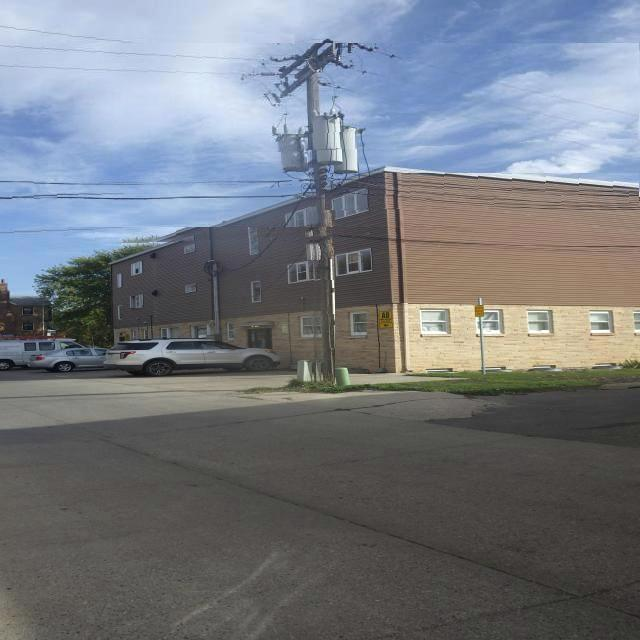crossarm: (278, 45, 354, 108), (281, 40, 333, 88)
pole: (307, 60, 335, 386)
transformer: (310, 124, 347, 166), (334, 131, 362, 173), (277, 139, 310, 172)
wire: (1, 44, 639, 144), (0, 24, 258, 52), (326, 173, 640, 196), (326, 186, 639, 208), (1, 64, 254, 79), (0, 227, 210, 237), (330, 227, 639, 233), (0, 180, 296, 185), (0, 193, 191, 199)
